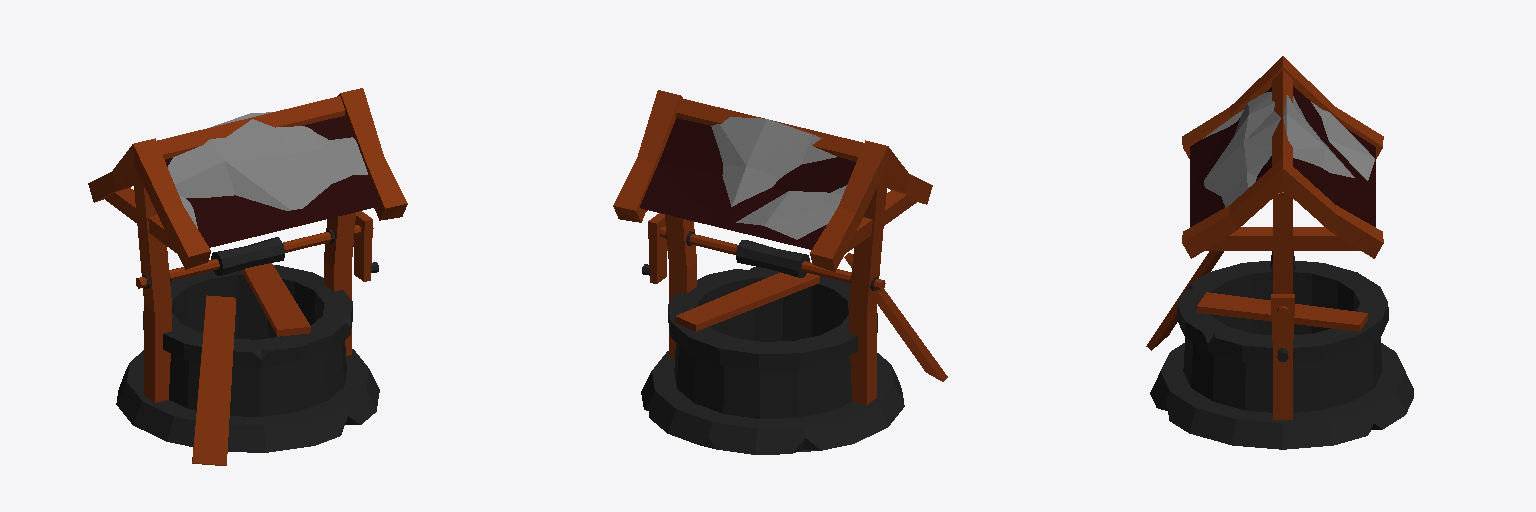
Rendered from pit.obj.
3 views of the same model, side by side, from view 1: azimuth 30°, elevation 25°; view 2: azimuth 150°, elevation 25°; view 3: azimuth 270°, elevation 25° (orthographic).
Visible parts, largest first — view 1: Circle.003_Circle.001, Cube.217_Cube.450, Cube.226_Cube.459, Cube.228_Cube.461, Cube.225_Cube.458, Cube.219_Cube.452, Cube.218_Cube.451, Cube.220_Cube.453, Cylinder.049_Cylinder.054, Cube.227_Cube.460, Cube.224_Cube.457, Cube.222_Cube.455; view 2: Circle.003_Circle.001, Cube.225_Cube.458, Cube.217_Cube.450, Cube.226_Cube.459, Cube.228_Cube.461, Cube.220_Cube.453, Cube.218_Cube.451, Cube.219_Cube.452, Cylinder.049_Cylinder.054, Cube.227_Cube.460, Cube.224_Cube.457, Cube.222_Cube.455; view 3: Circle.003_Circle.001, Cube.226_Cube.459, Cube.217_Cube.450, Cube.225_Cube.458, Cube.228_Cube.461, Cube.220_Cube.453, Cube.222_Cube.455, Cube.218_Cube.451, Cube.224_Cube.457, Cube.219_Cube.452.
Boxes of the visible parts, x1=… form: Circle.003_Circle.001: x1=116, y1=265, x2=379, y2=452; Cube.217_Cube.450: x1=168, y1=112, x2=367, y2=228; Cube.226_Cube.459: x1=88, y1=88, x2=407, y2=269; Cube.228_Cube.461: x1=133, y1=168, x2=355, y2=402; Cube.225_Cube.458: x1=165, y1=116, x2=381, y2=247; Cube.219_Cube.452: x1=192, y1=295, x2=235, y2=465; Cube.218_Cube.451: x1=157, y1=96, x2=344, y2=159; Cube.220_Cube.453: x1=241, y1=263, x2=310, y2=336; Cylinder.049_Cylinder.054: x1=211, y1=237, x2=284, y2=275; Cube.227_Cube.460: x1=136, y1=225, x2=373, y2=288; Cube.224_Cube.457: x1=353, y1=211, x2=372, y2=281; Cube.222_Cube.455: x1=104, y1=188, x2=374, y2=252; Circle.003_Circle.001: x1=641, y1=267, x2=904, y2=454; Cube.225_Cube.458: x1=640, y1=118, x2=855, y2=249; Cube.217_Cube.450: x1=711, y1=117, x2=846, y2=239; Cube.226_Cube.459: x1=613, y1=90, x2=932, y2=271; Cube.228_Cube.461: x1=665, y1=170, x2=887, y2=404; Cube.220_Cube.453: x1=675, y1=272, x2=819, y2=331; Cube.218_Cube.451: x1=676, y1=98, x2=863, y2=161; Cube.219_Cube.452: x1=844, y1=253, x2=947, y2=381; Cylinder.049_Cylinder.054: x1=736, y1=240, x2=809, y2=277; Cube.227_Cube.460: x1=660, y1=227, x2=885, y2=290; Cube.224_Cube.457: x1=648, y1=213, x2=667, y2=283; Cube.222_Cube.455: x1=646, y1=190, x2=917, y2=253; Circle.003_Circle.001: x1=1150, y1=261, x2=1413, y2=449; Cube.226_Cube.459: x1=1182, y1=56, x2=1383, y2=258; Cube.217_Cube.450: x1=1203, y1=92, x2=1374, y2=207; Cube.225_Cube.458: x1=1190, y1=86, x2=1375, y2=226; Cube.228_Cube.461: x1=1273, y1=190, x2=1292, y2=419; Cube.220_Cube.453: x1=1197, y1=292, x2=1367, y2=331; Cube.222_Cube.455: x1=1205, y1=227, x2=1360, y2=250; Cube.218_Cube.451: x1=1272, y1=70, x2=1292, y2=166; Cube.224_Cube.457: x1=1271, y1=294, x2=1294, y2=359; Cube.219_Cube.452: x1=1146, y1=251, x2=1223, y2=350.
Size of the model in its own units: 1.85 by 2.04 by 1.76.